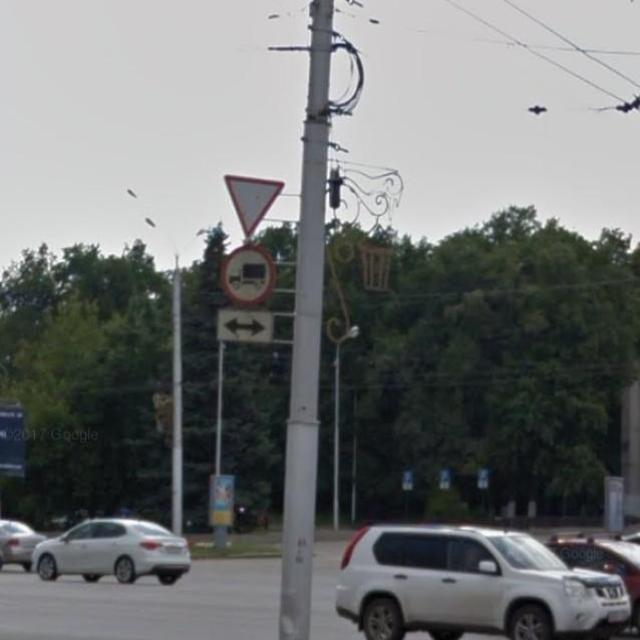give_way: (223, 174, 286, 239)
truck: (218, 244, 277, 310)
